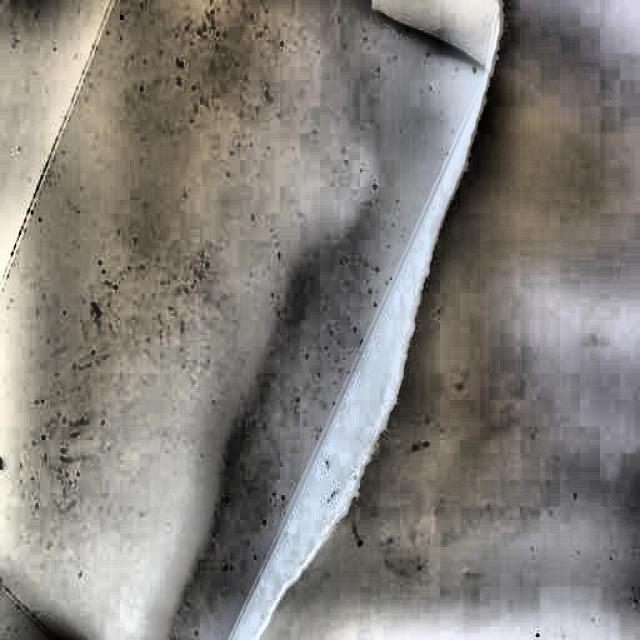paper: (0, 2, 532, 629)
